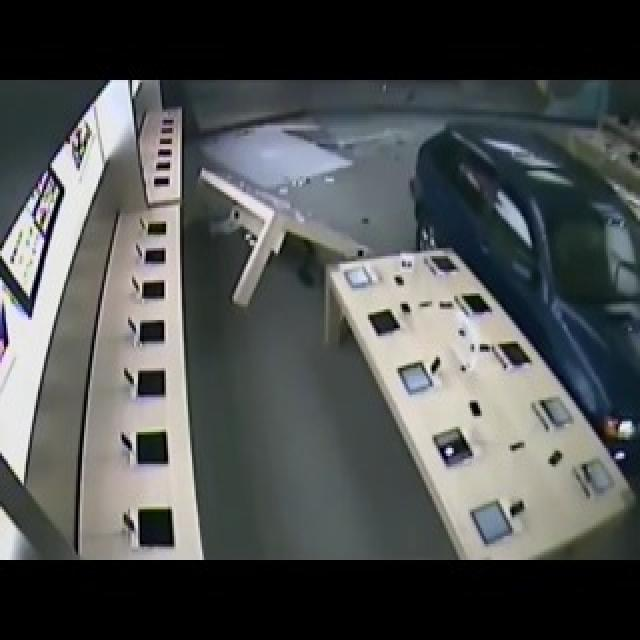burglary: (410, 123, 640, 419)
